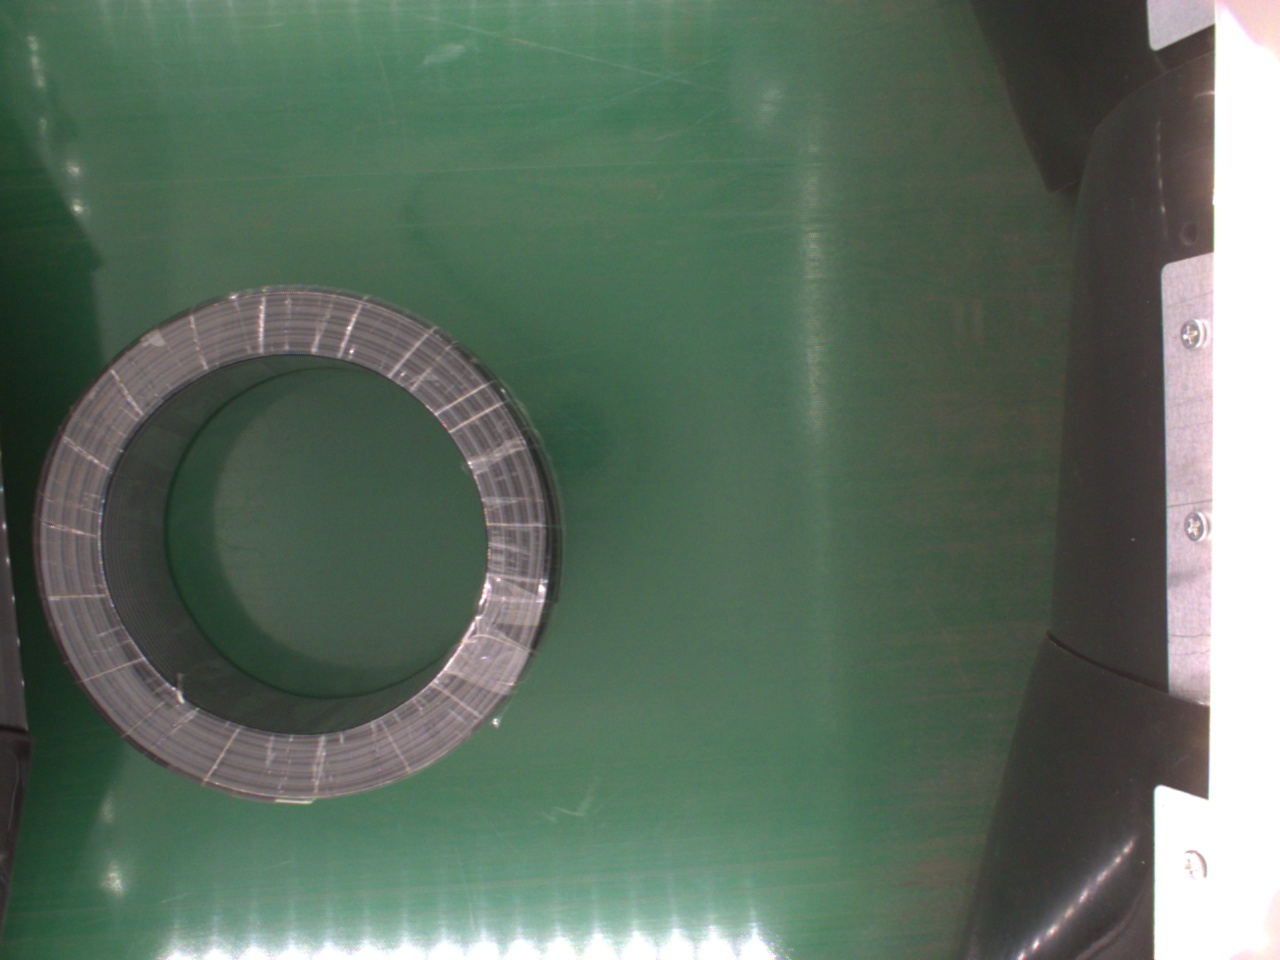black: (38, 287, 556, 801)
